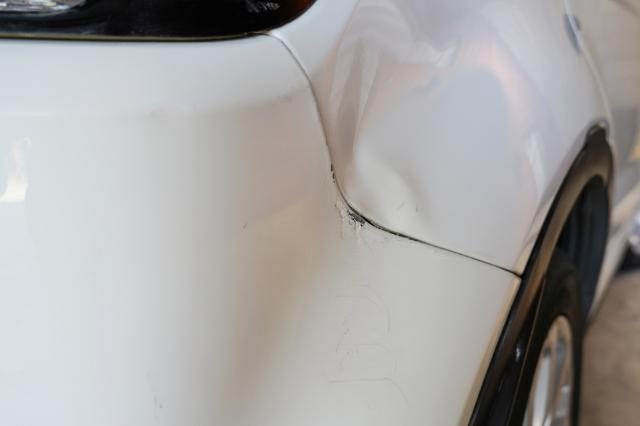Fender: (265, 0, 616, 271)
